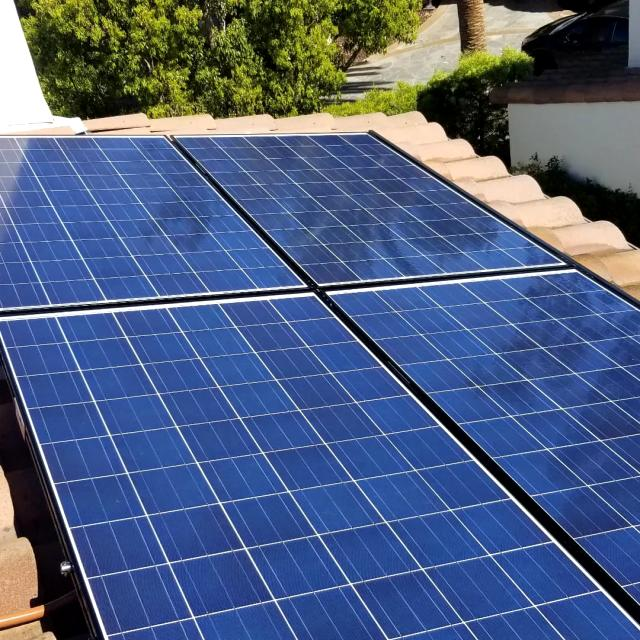crack: (60, 501, 206, 621), (44, 442, 172, 557), (328, 562, 486, 640), (268, 358, 412, 436), (228, 499, 358, 578), (312, 443, 426, 530), (200, 403, 316, 485), (140, 497, 260, 575), (354, 467, 462, 541), (237, 318, 333, 372), (33, 398, 122, 456), (10, 368, 109, 418), (0, 312, 84, 368), (179, 311, 232, 356)
